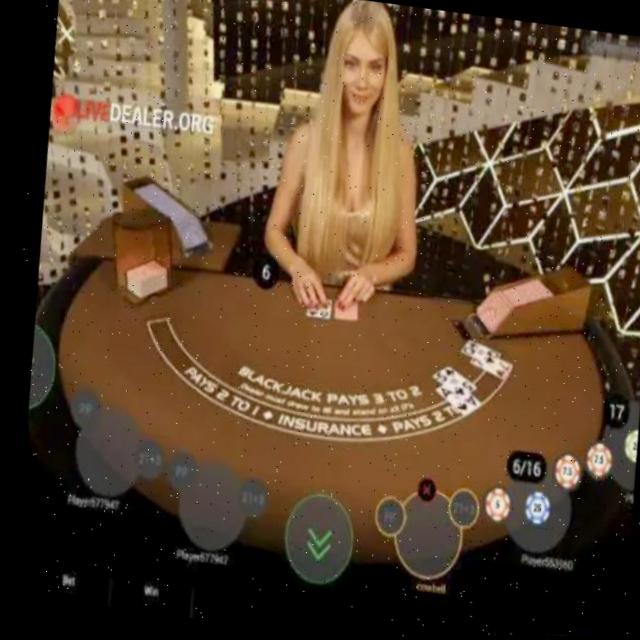Card-5: (428, 366, 471, 401)
Card-6: (303, 297, 327, 319)
Card-7: (465, 358, 508, 382)
Card-A: (430, 385, 476, 417)
Card-Q: (456, 341, 496, 367)
